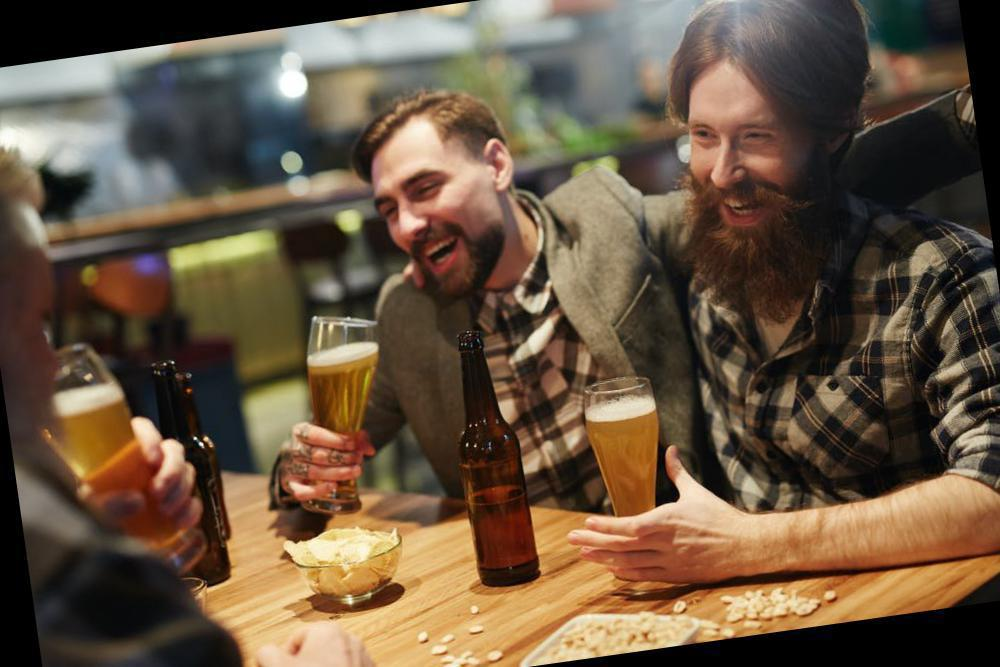Drunk: (683, 75, 800, 250), (372, 139, 494, 285)
